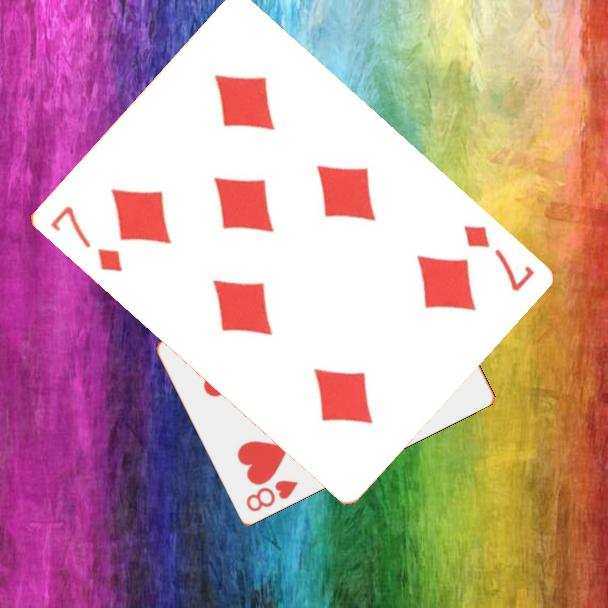d07: (459, 221, 537, 295), (46, 202, 125, 275)
h08: (243, 476, 301, 514)
